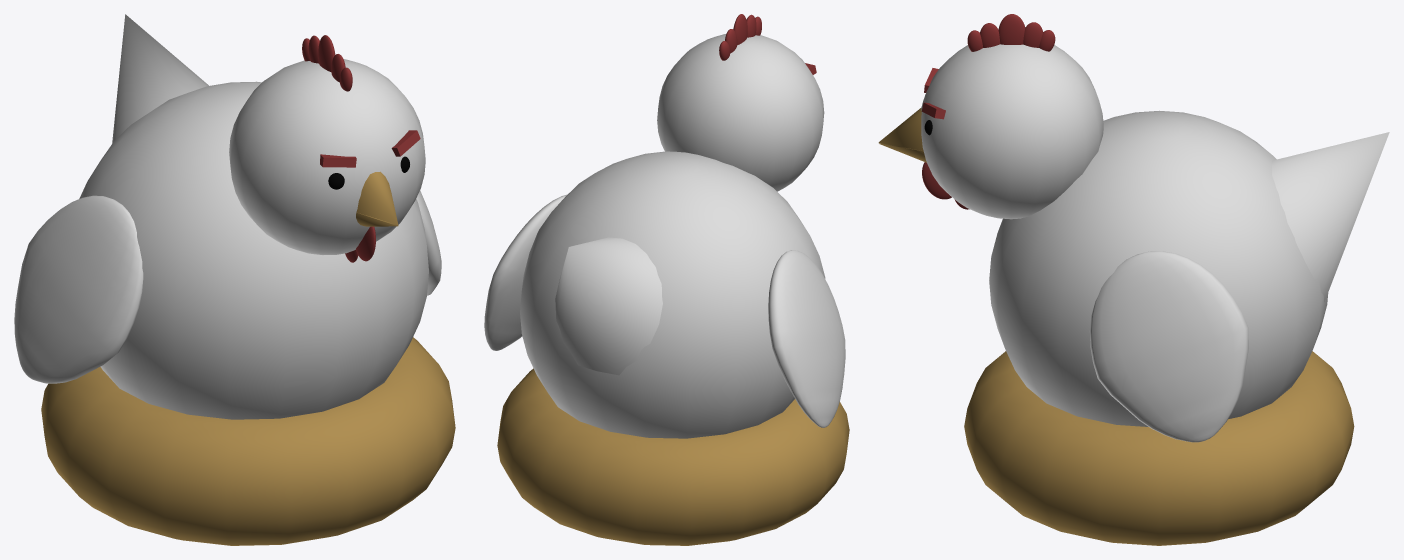
Rendered from chicken.fbx.
The picture shows the model from 3 angles, left to right: view 1: azimuth 30°, elevation 25°; view 2: azimuth 150°, elevation 25°; view 3: azimuth 270°, elevation 25°; orthographic projection. The views are drawn at different scales.
Visible parts, largest first — view 1: pSphere1, Nest, Head, pasted__pSphere5, Tail, TopMouth, RightWing; view 2: pSphere1, Nest, Head, Tail, pasted__pSphere5, RightWing; view 3: pSphere1, Nest, Head, RightWing, Tail, TopMouth.
Part boxes in pixels (x1,y1,x2,y2): pSphere1: [79, 81, 428, 419]; Nest: [41, 337, 455, 545]; Head: [229, 35, 425, 262]; pasted__pSphere5: [14, 195, 143, 383]; Tail: [112, 14, 208, 143]; TopMouth: [356, 171, 398, 225]; RightWing: [416, 190, 441, 295]; pSphere1: [520, 151, 825, 438]; Nest: [497, 368, 849, 545]; Head: [657, 14, 824, 191]; Tail: [555, 237, 662, 375]; pasted__pSphere5: [768, 250, 845, 427]; RightWing: [484, 194, 566, 350]; pSphere1: [989, 110, 1328, 426]; Nest: [964, 351, 1354, 545]; Head: [921, 14, 1103, 219]; RightWing: [1089, 251, 1248, 442]; Tail: [1272, 132, 1389, 302]; TopMouth: [878, 108, 923, 150].
Bounding box in the file's own units: 3.24 × 4 × 3.93.
